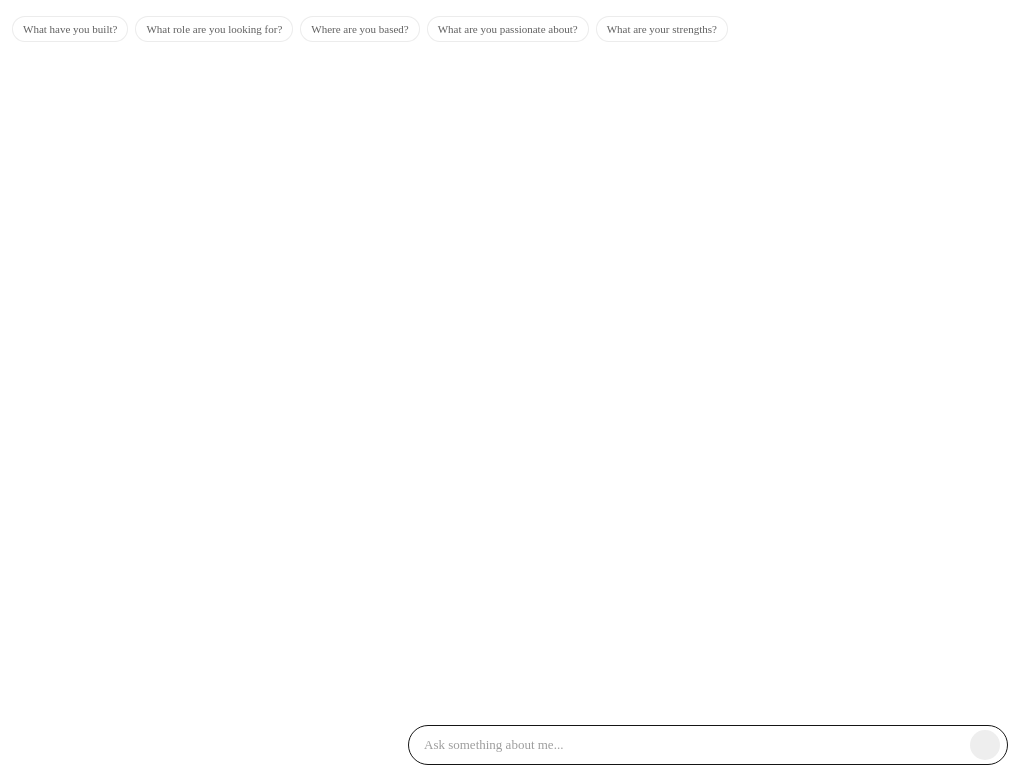
Scenario: QuestionPreview › handles a plain-text platform error without exposing a JSON parsing message
The image size is (1025, 782).
Click the button "What have you built?". click: (70, 29)
box: left=12, top=16, right=128, bottom=42
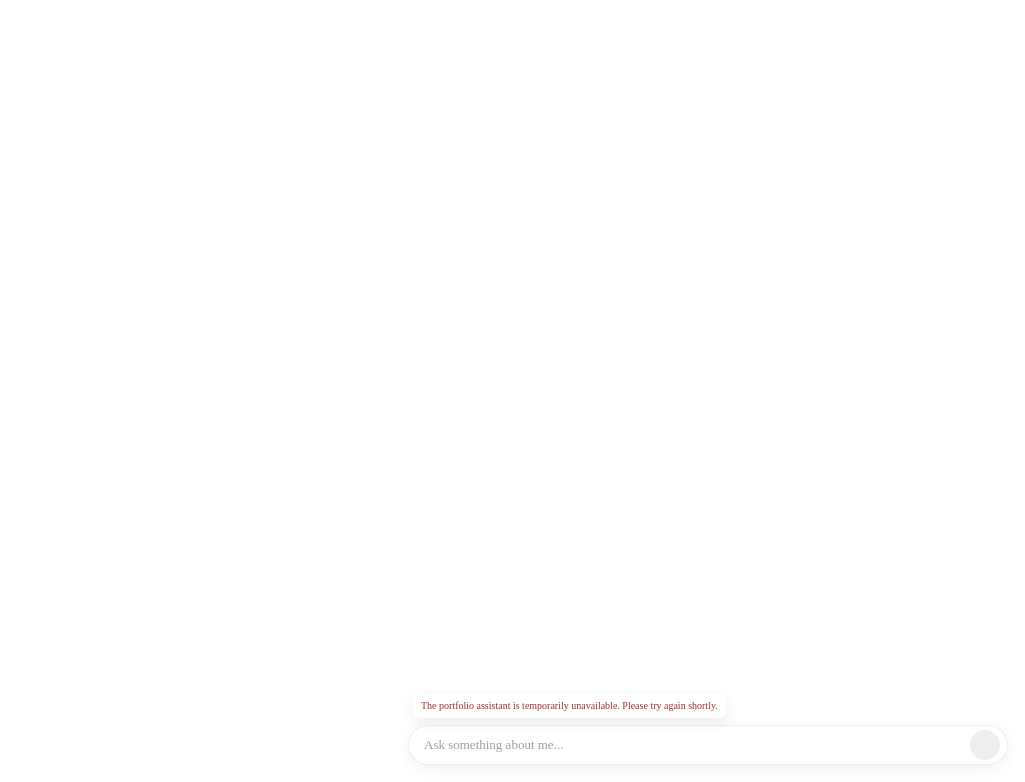
Result: the message shows "temporarily unavailable" at left=421, top=700, right=718, bottom=711
